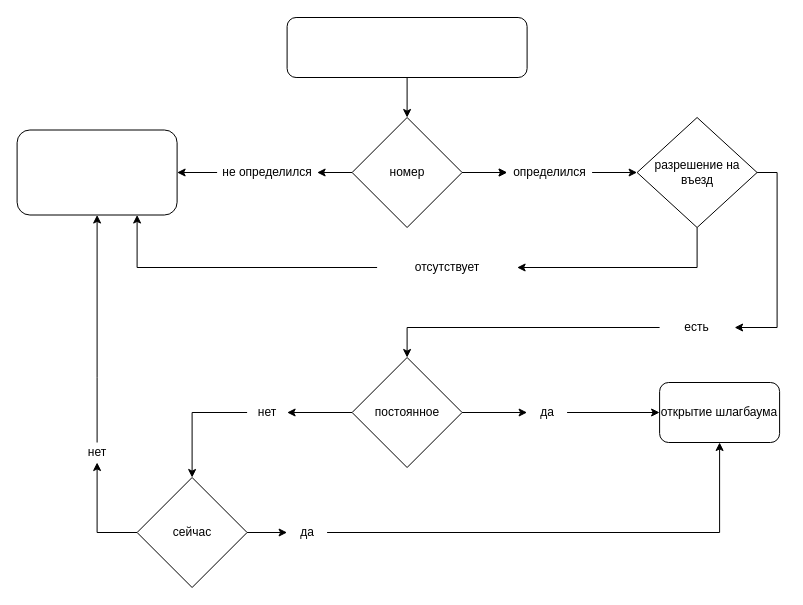
Some shapes in this 803 by 605 pixel diagram are drawn without their labels. The centre of each missing label's shape, as x and y in pixels:
машина подъезжает к стоп-линии: (x=406, y=47)
уведомление сообщением в телеграме: (x=96, y=172)
